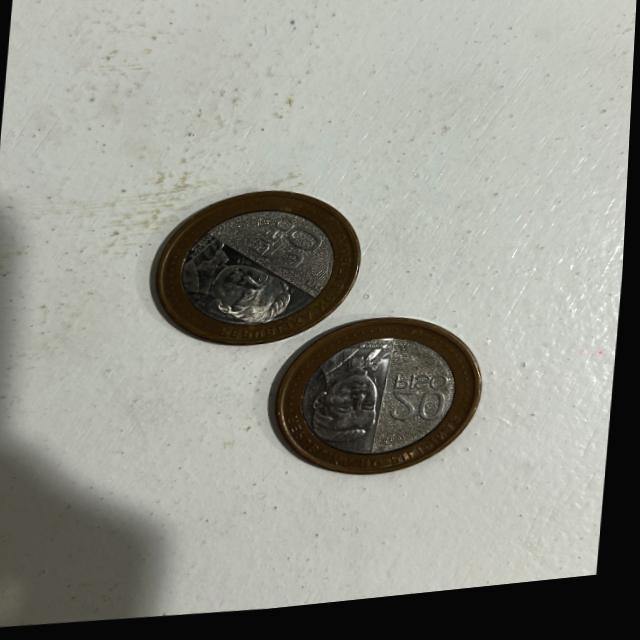20_New_Front: (381, 375, 463, 439), (245, 217, 323, 278)
